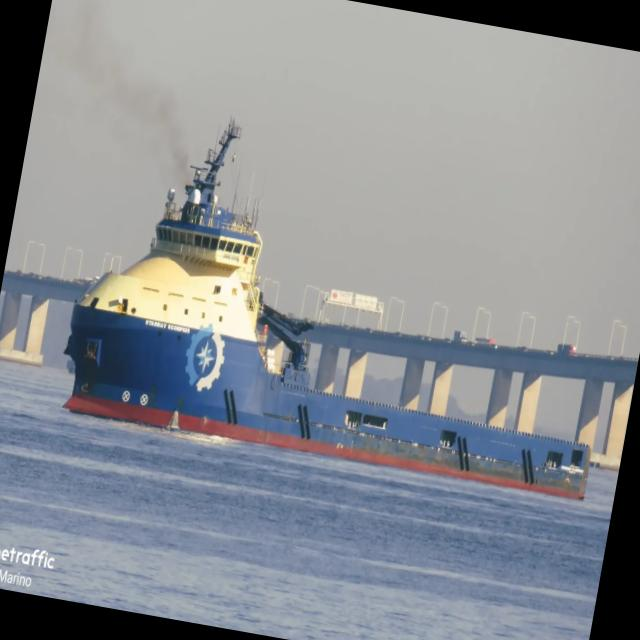Offshore: (65, 122, 590, 498)
